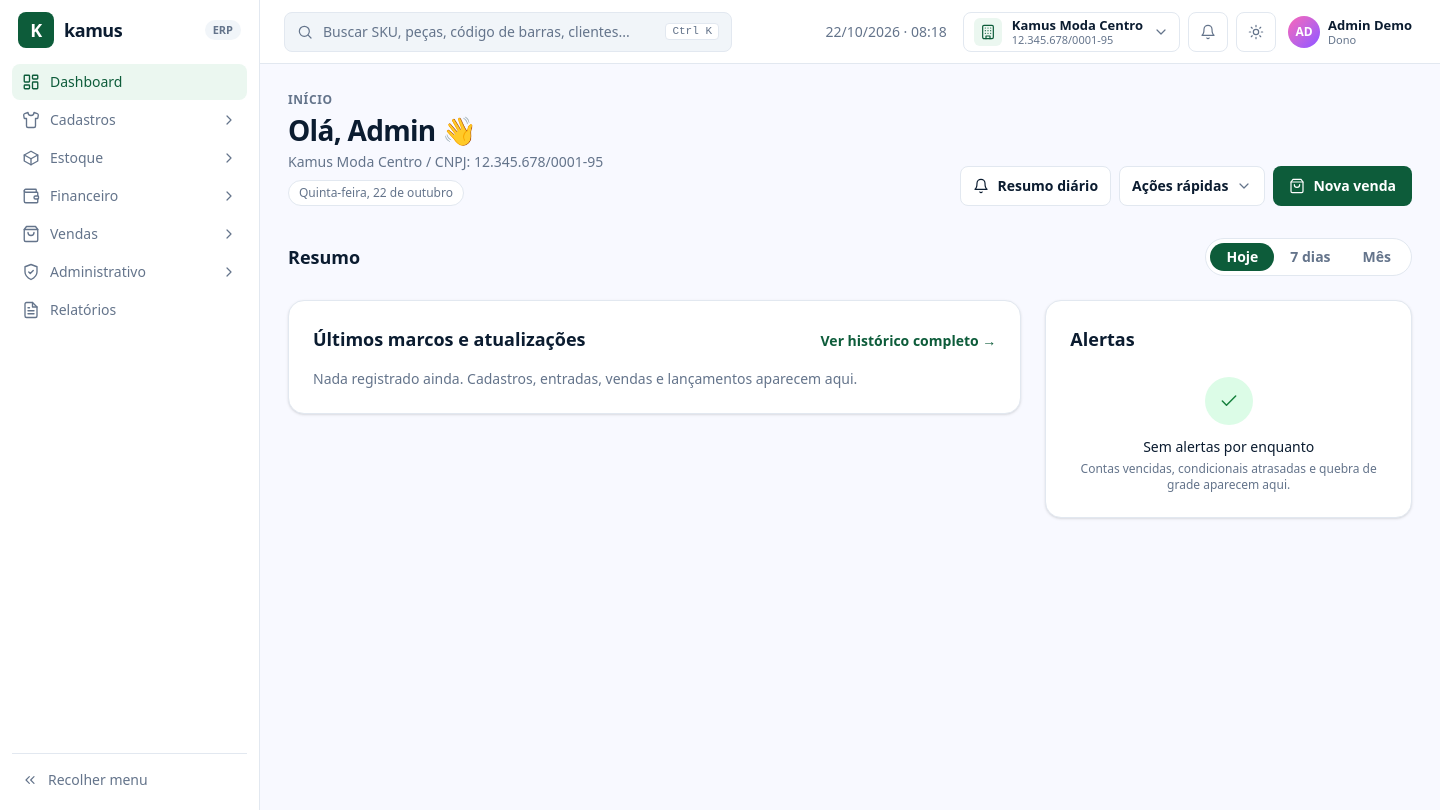
Test: Troca de senha › pelo menu do usuário, qualquer um troca a própria senha
Click the button with aria-label "Menu do usuário": (1350, 32) [1284,12,1416,52]
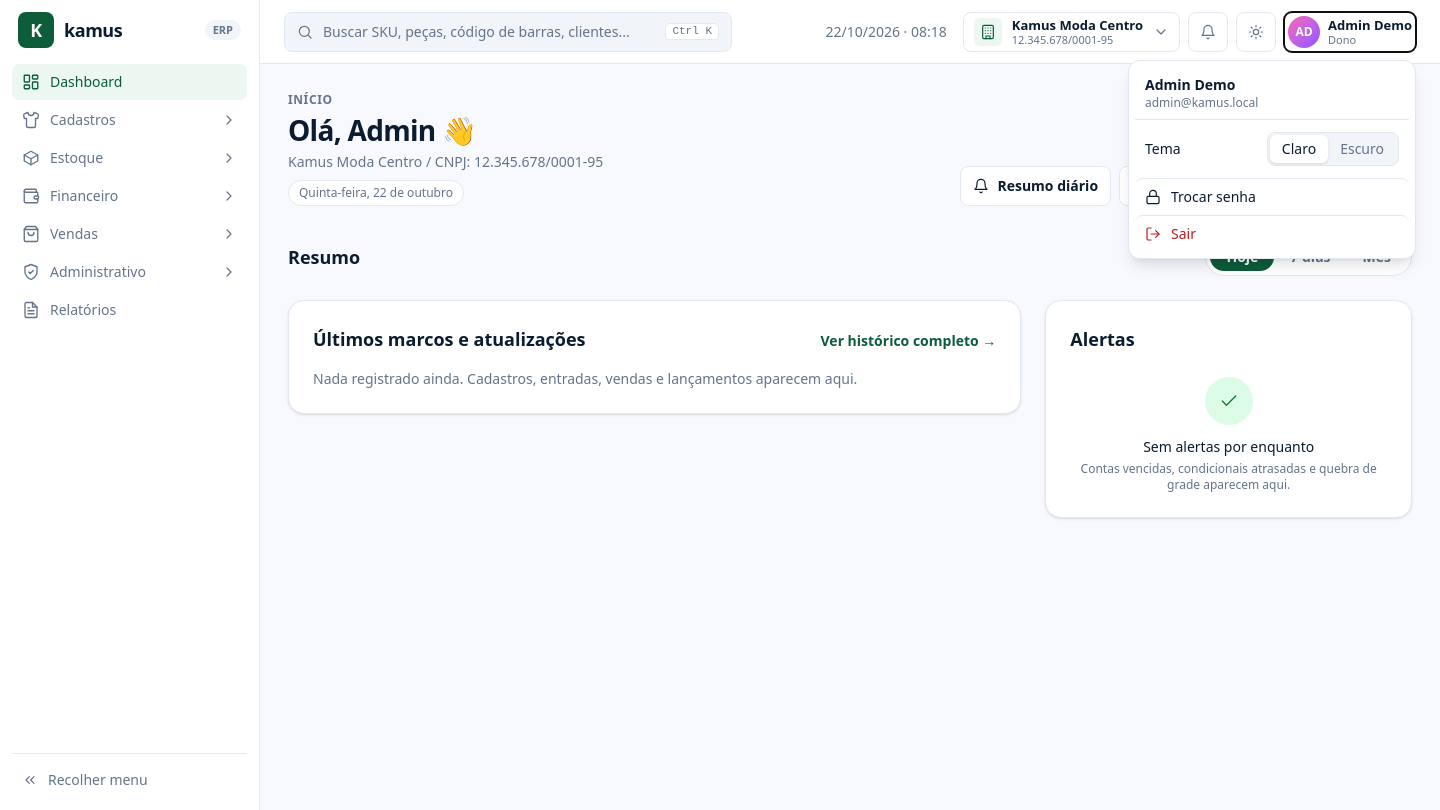
Click the menu item "Trocar senha": (1213, 196) [1135,178,1409,214]
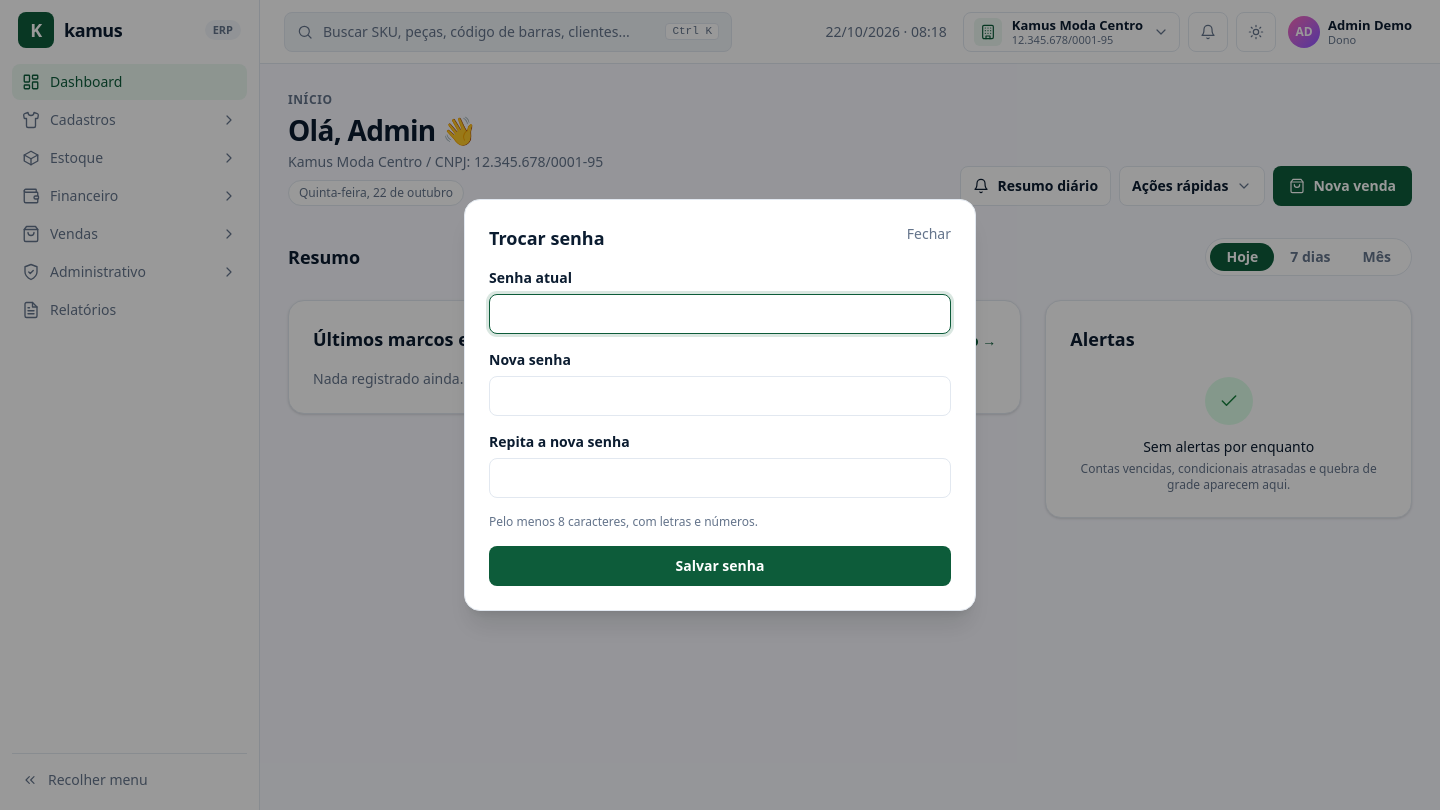
In the password field labelled "Senha atual": (720, 314) [489,294,951,334], type "errada"
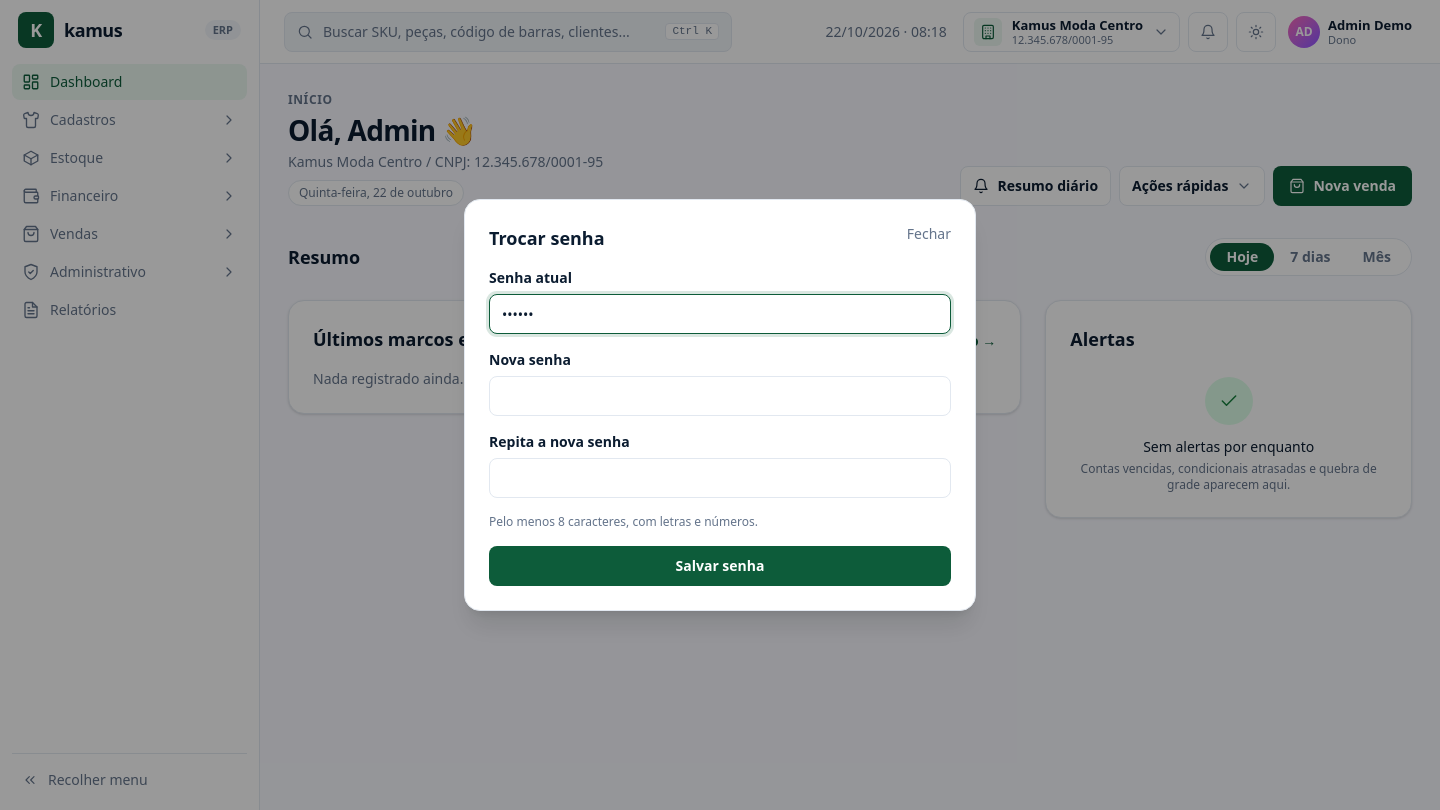
In the password field labelled "Nova senha": (720, 396) [489,376,951,416], type "MinhaSenha2026"
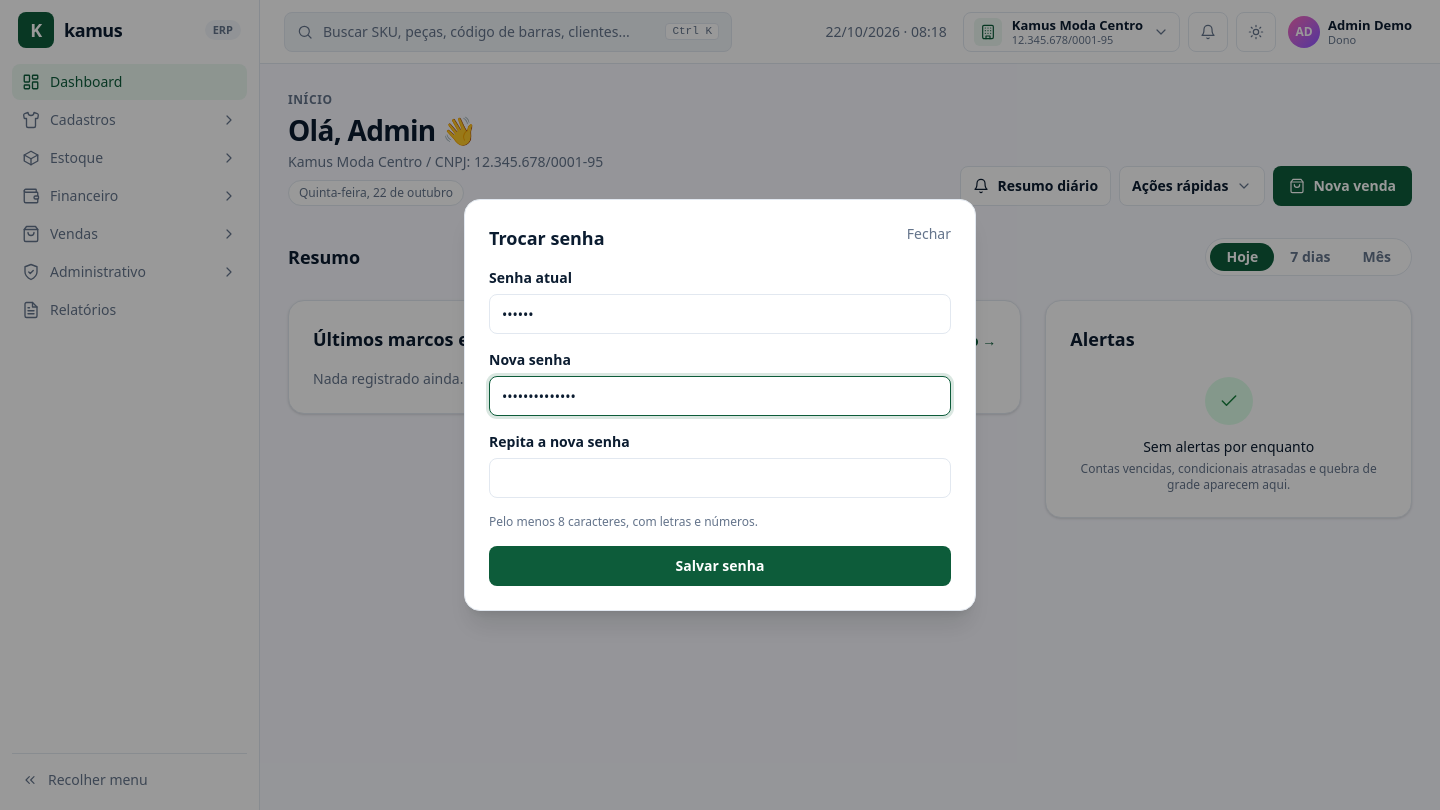
In the password field labelled "Repita a nova senha": (720, 478) [489,458,951,498], type "MinhaSenha2026"
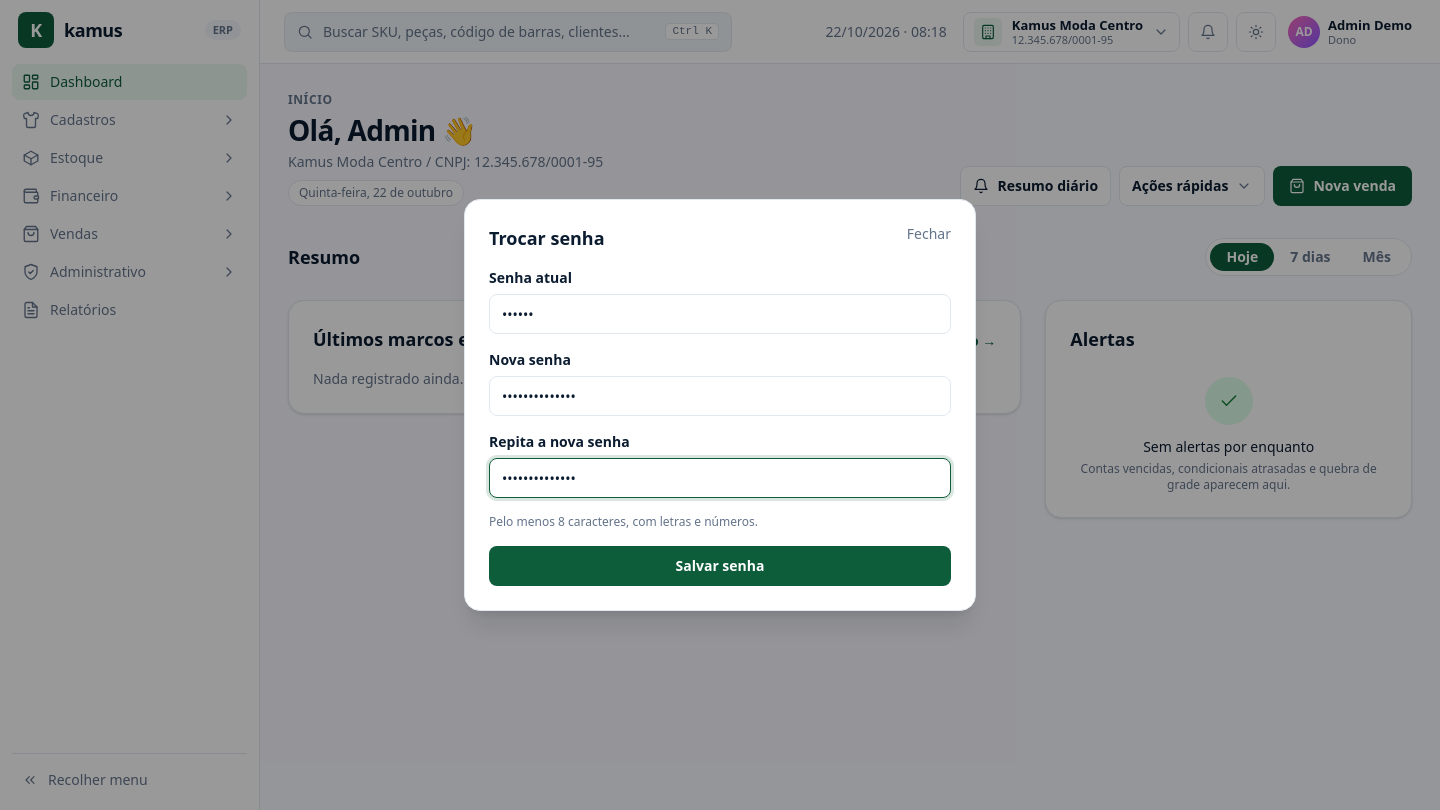
Click the button "Salvar senha": (720, 566) [489,546,951,586]
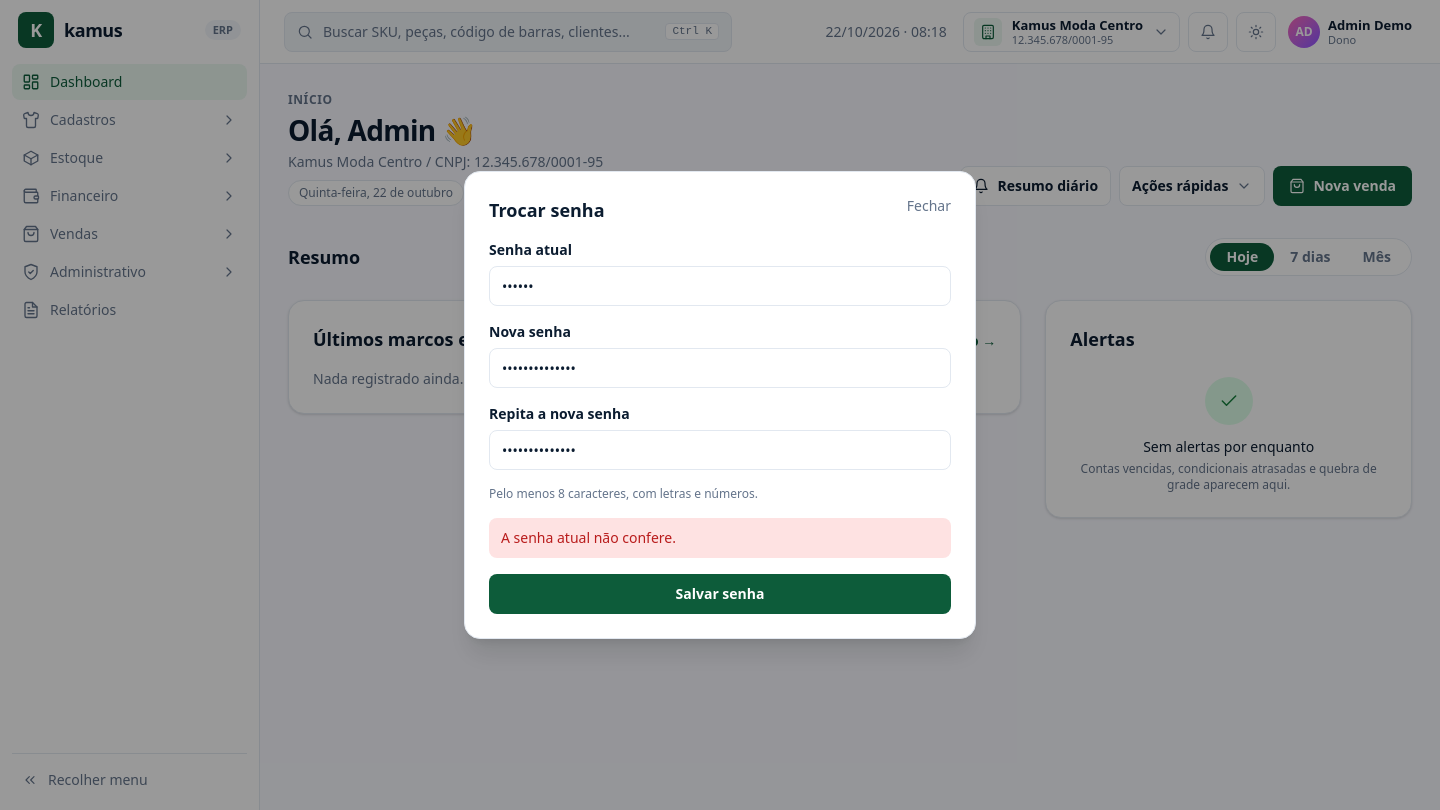
Expected: the message reads "A senha atual não confere.", [501,528,676,547]
